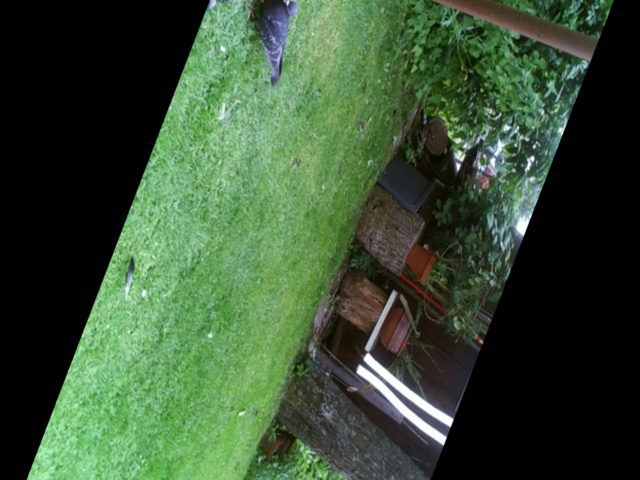Pigeon: (237, 1, 304, 87)
